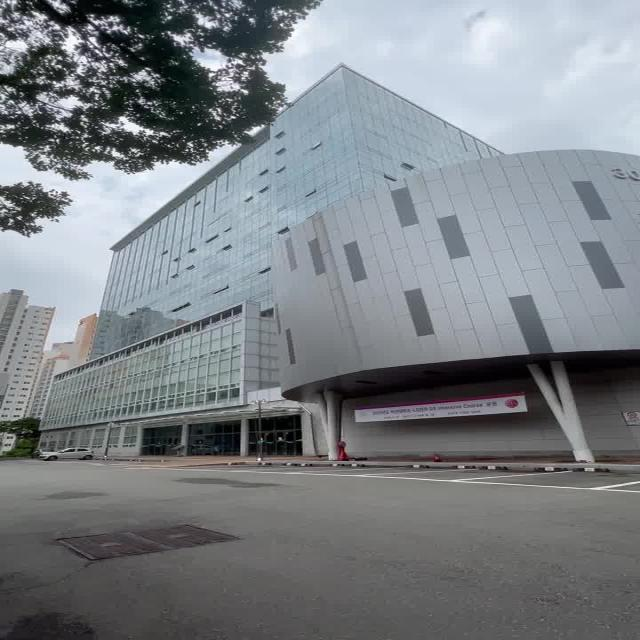building: (131, 133, 640, 390)
